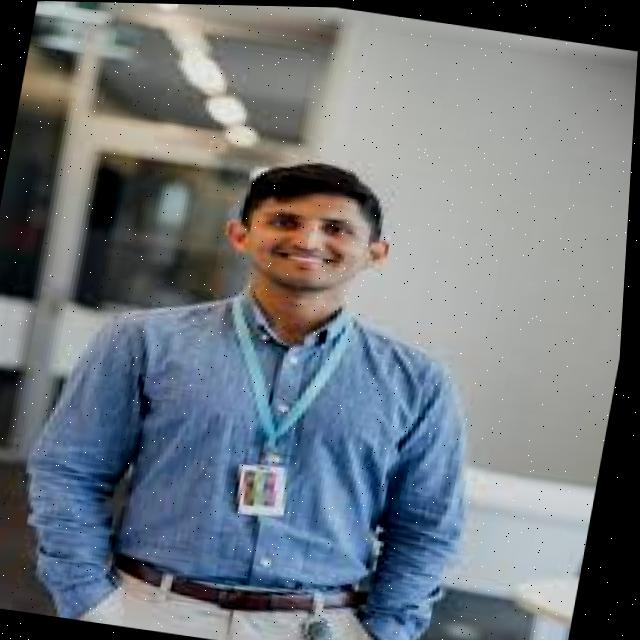id_card: (192, 300, 380, 542)
